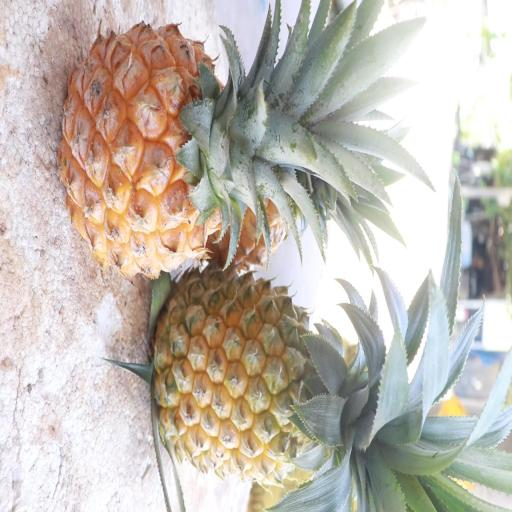Pineapple - v8 v1: (57, 12, 326, 280), (144, 258, 389, 486)
